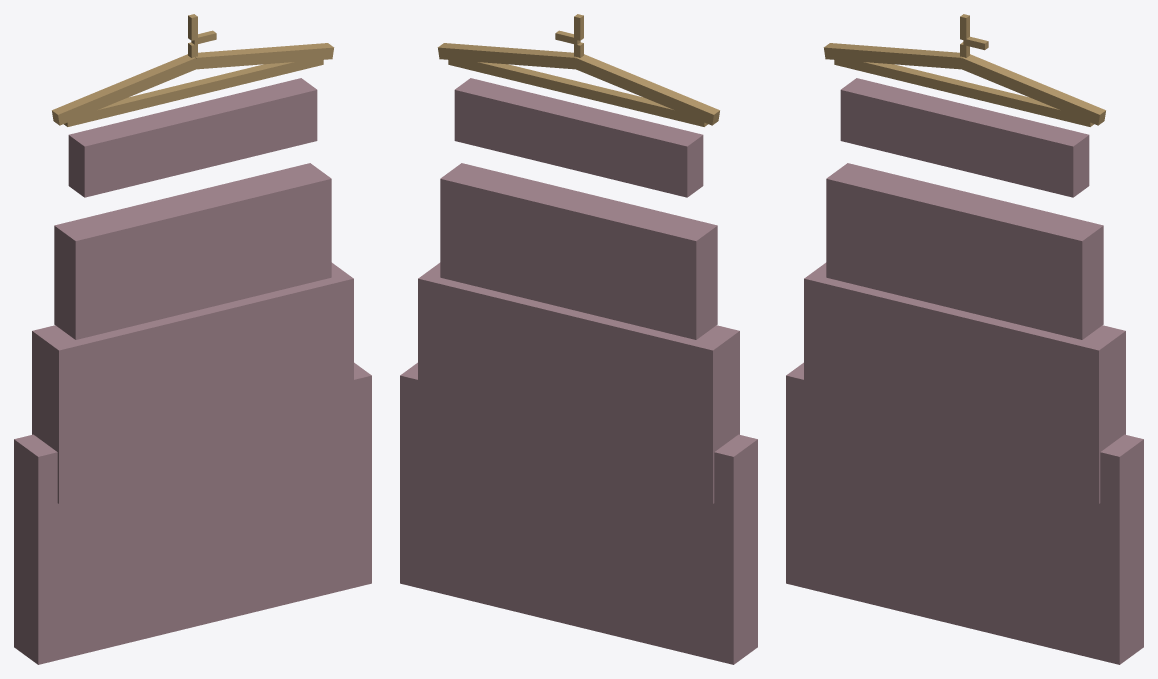
The model's file is c2_dress_hanger.glb.
3 views of the same model, side by side, from view 1: azimuth 30°, elevation 25°; view 2: azimuth 150°, elevation 25°; view 3: azimuth 330°, elevation 25° (orthographic).
Visible parts, largest first — view 1: c2_dress_hanger; view 2: c2_dress_hanger; view 3: c2_dress_hanger.
Boxes of the visible parts, x1=… form: c2_dress_hanger: x1=14, y1=14, x2=371, y2=664; c2_dress_hanger: x1=400, y1=14, x2=757, y2=664; c2_dress_hanger: x1=786, y1=14, x2=1143, y2=664.
Bounding box in the file's own units: 0.43 × 0.7381 × 0.06.
